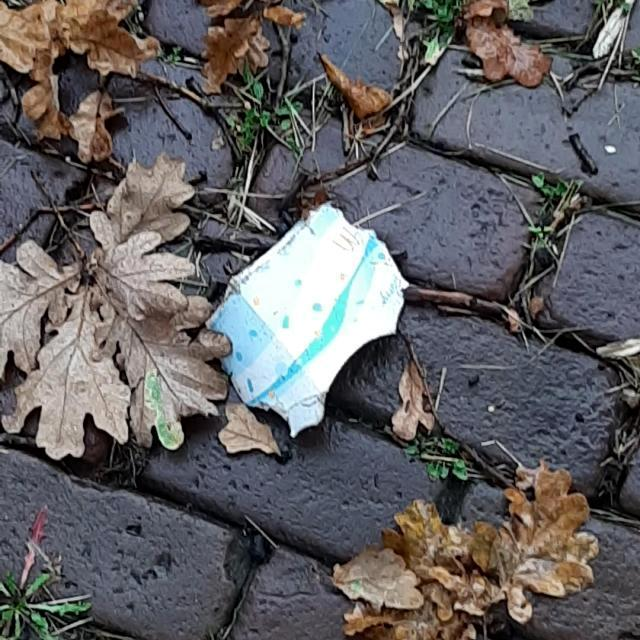Paper: (195, 196, 412, 440)
